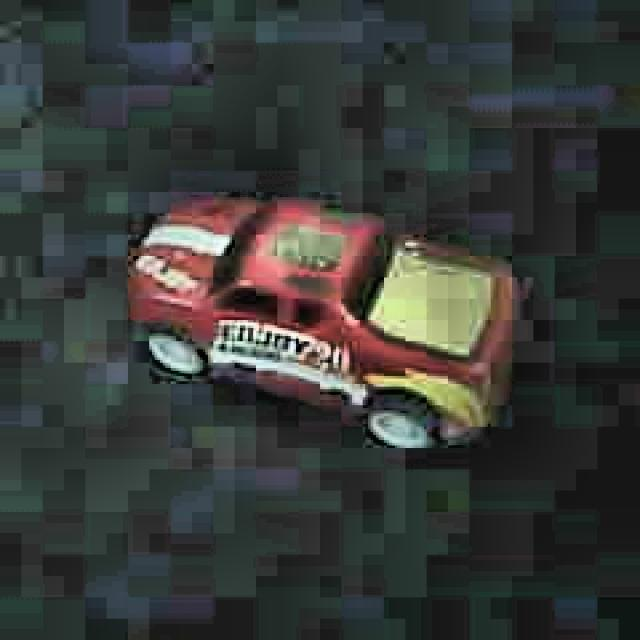car: (123, 184, 520, 463)
